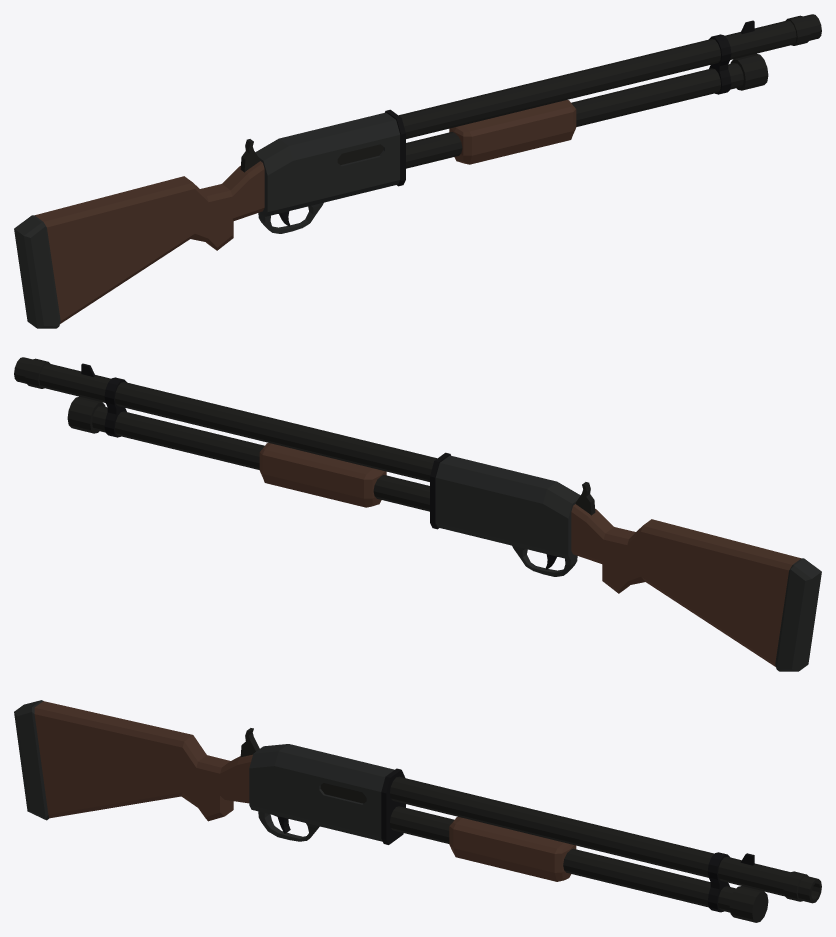
File: Survival_Shotgun_2.glb
3 renders of one model, top to bottom at view 1: azimuth 30°, elevation 25°; view 2: azimuth 150°, elevation 25°; view 3: azimuth 330°, elevation 25°, orthographic.
Parts seen in each view (by area): view 1: Shotgun_3; view 2: Shotgun_3; view 3: Shotgun_3.
Part boxes in pixels (left/top/right/bottom): Shotgun_3: left=14, top=14, right=821, bottom=328; Shotgun_3: left=14, top=357, right=821, bottom=671; Shotgun_3: left=14, top=700, right=821, bottom=922.
Size of the model in its own units: 578 by 94.27 by 24.65.
